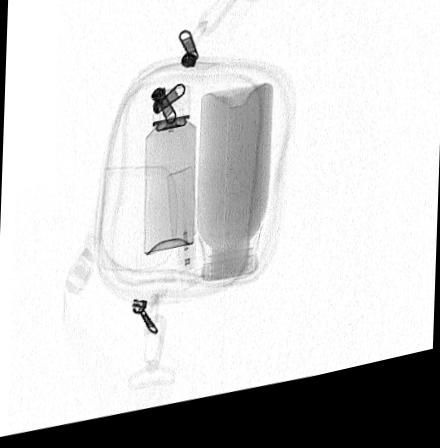Sprayer: (143, 95, 195, 260)
